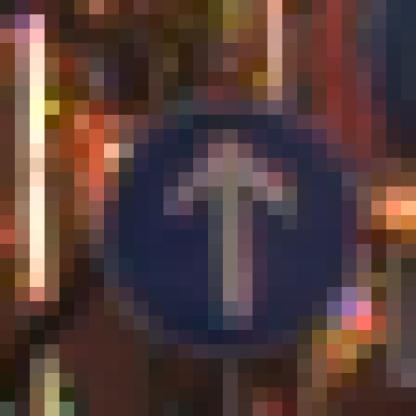AheadOnly: (90, 73, 343, 331)
